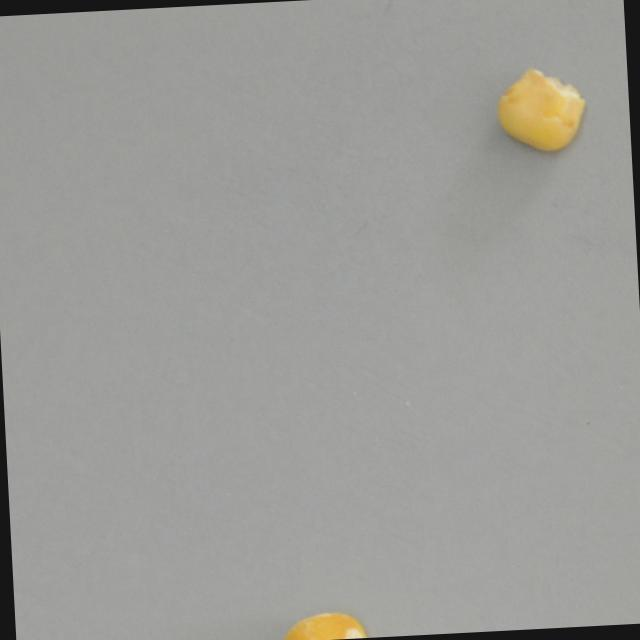no_desgerminado: (493, 63, 590, 158), (277, 608, 371, 640)
